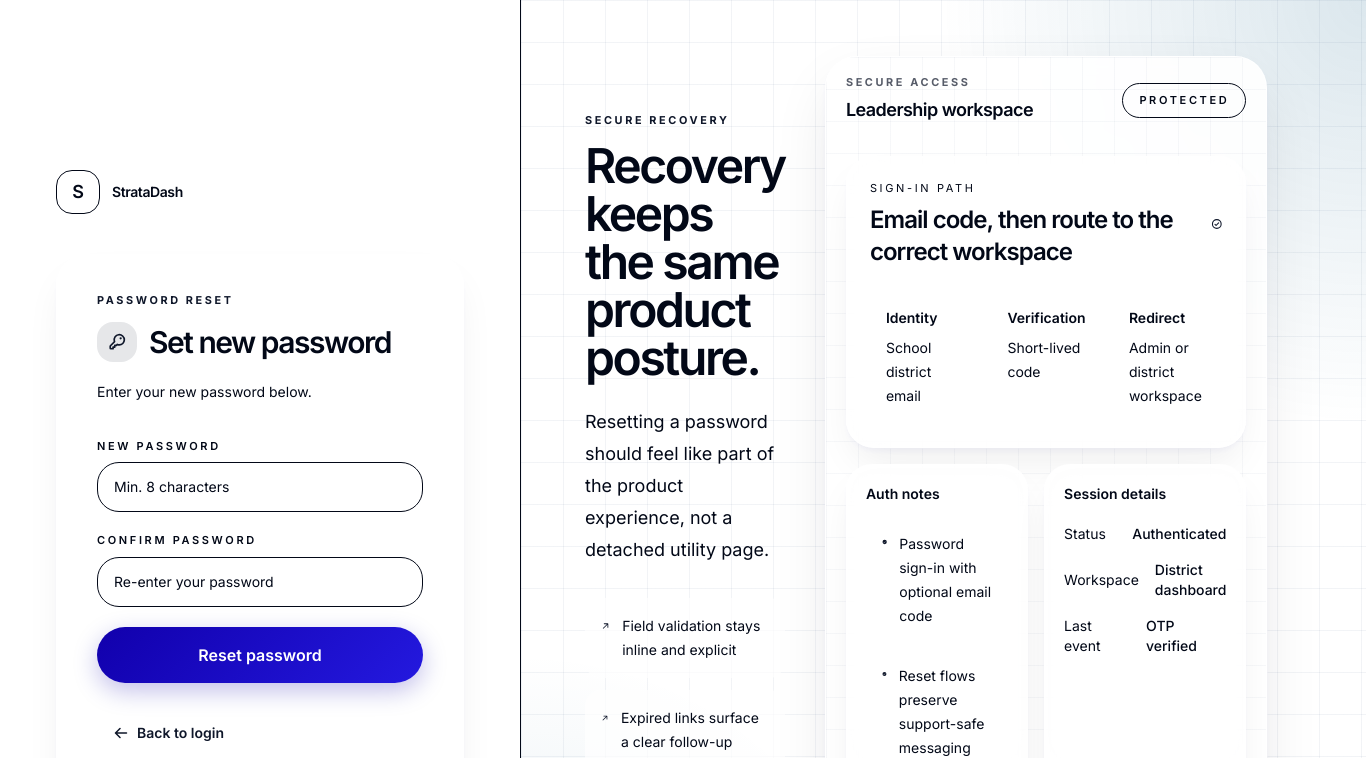
Test: ResetPassword › with token › shows validation error for short password
Type "short" into the password field labelled "New password". click: (260, 487)
box: [97,462,423,512]
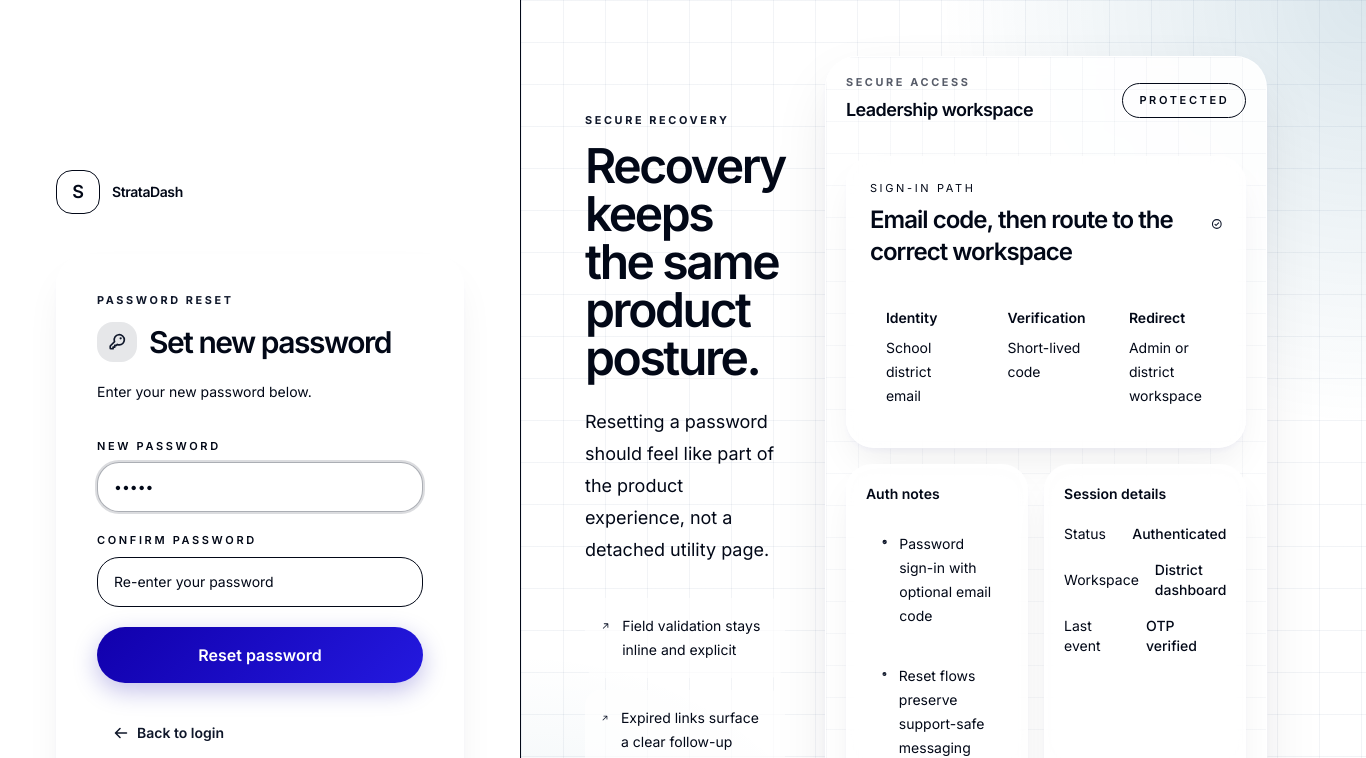
Type "short" into the password field labelled "Confirm password". click: (260, 582)
box: [97,557,423,607]
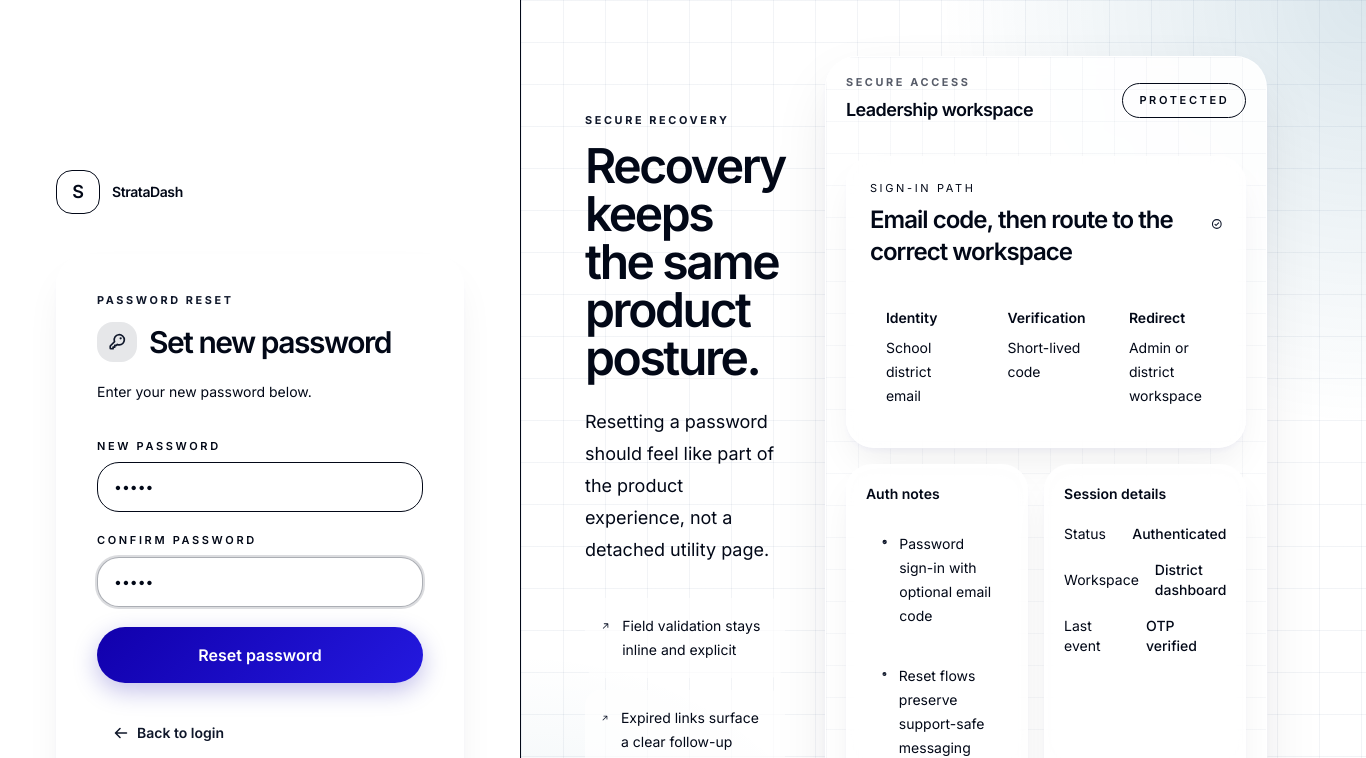
Click the button "Reset password". click: (260, 655)
box: [97,627,423,683]
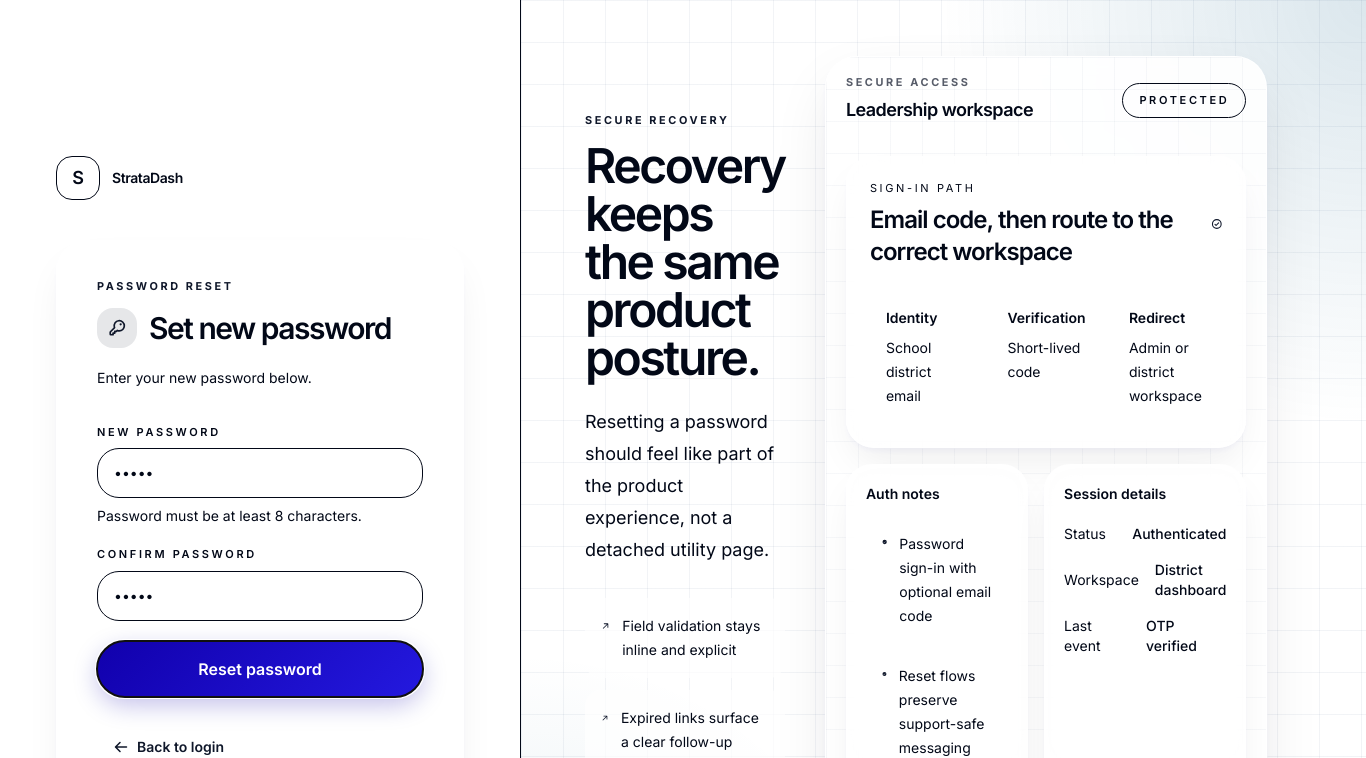
expect the text "Password must be at least 8 characters." is shown: met, box [97,507,362,524]
